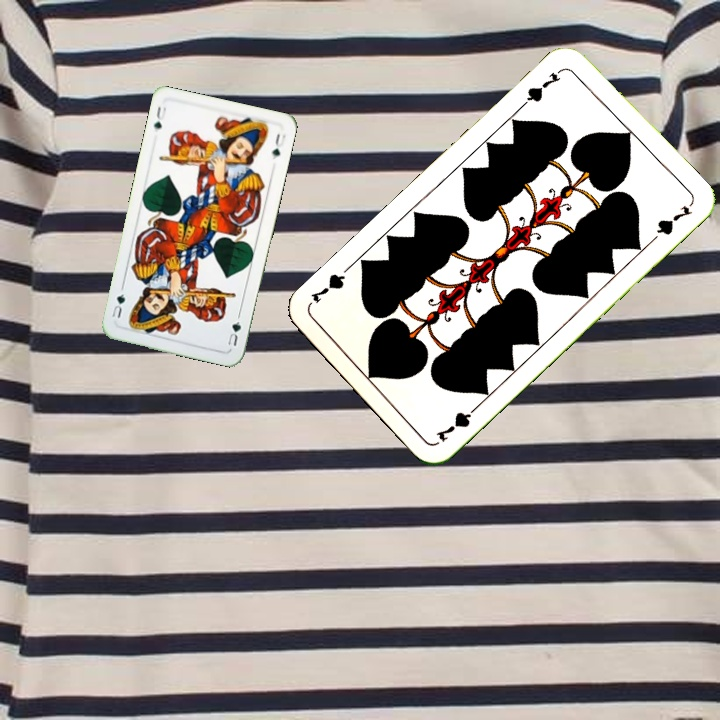G7: (431, 400, 483, 445), (518, 64, 566, 109)
GU: (223, 317, 244, 349), (150, 102, 169, 132)
